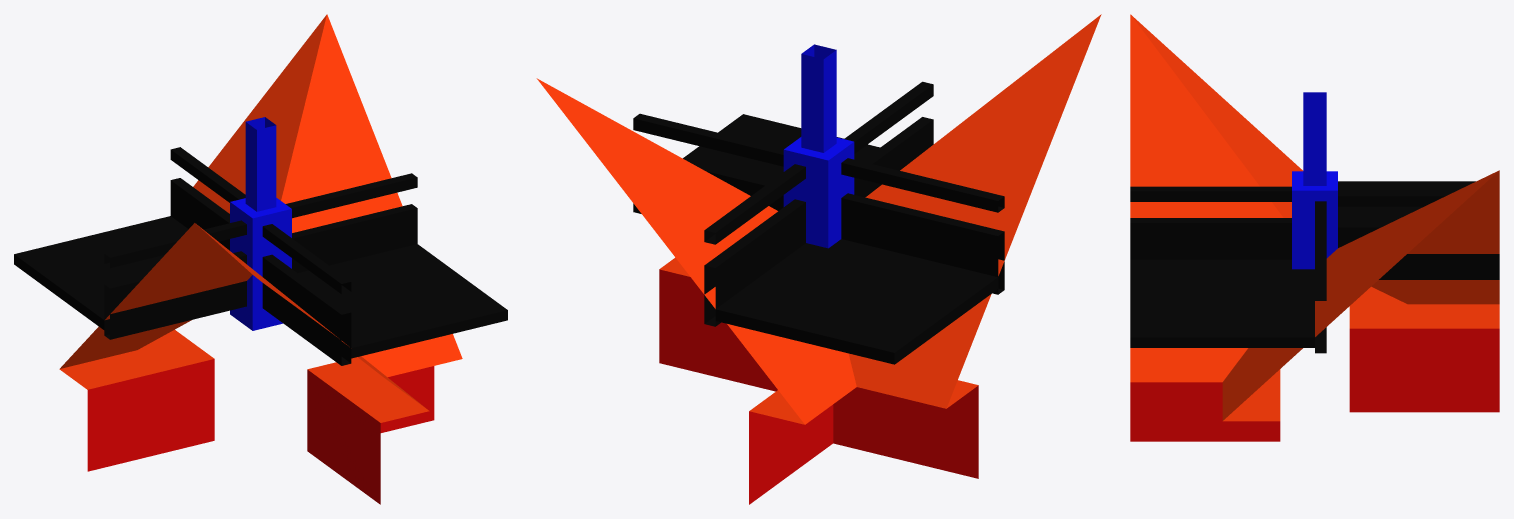
The model's file is None_S_P_E_E_P_S_E_E_BigStrut.fbx.
3 renders of one model, left to right at view 1: azimuth 30°, elevation 25°; view 2: azimuth 150°, elevation 25°; view 3: azimuth 270°, elevation 25°, orthographic. The views are drawn at different scales.
Visible parts, largest first — view 1: None_S_P_E_E_P_S_E_E_BigStrut; view 2: None_S_P_E_E_P_S_E_E_BigStrut; view 3: None_S_P_E_E_P_S_E_E_BigStrut.
Part boxes in pixels (x1=…): None_S_P_E_E_P_S_E_E_BigStrut: x1=14, y1=14, x2=507, y2=504; None_S_P_E_E_P_S_E_E_BigStrut: x1=536, y1=14, x2=1101, y2=504; None_S_P_E_E_P_S_E_E_BigStrut: x1=1130, y1=14, x2=1499, y2=441.
Bounding box in the file's own units: 100 × 100 × 100.
